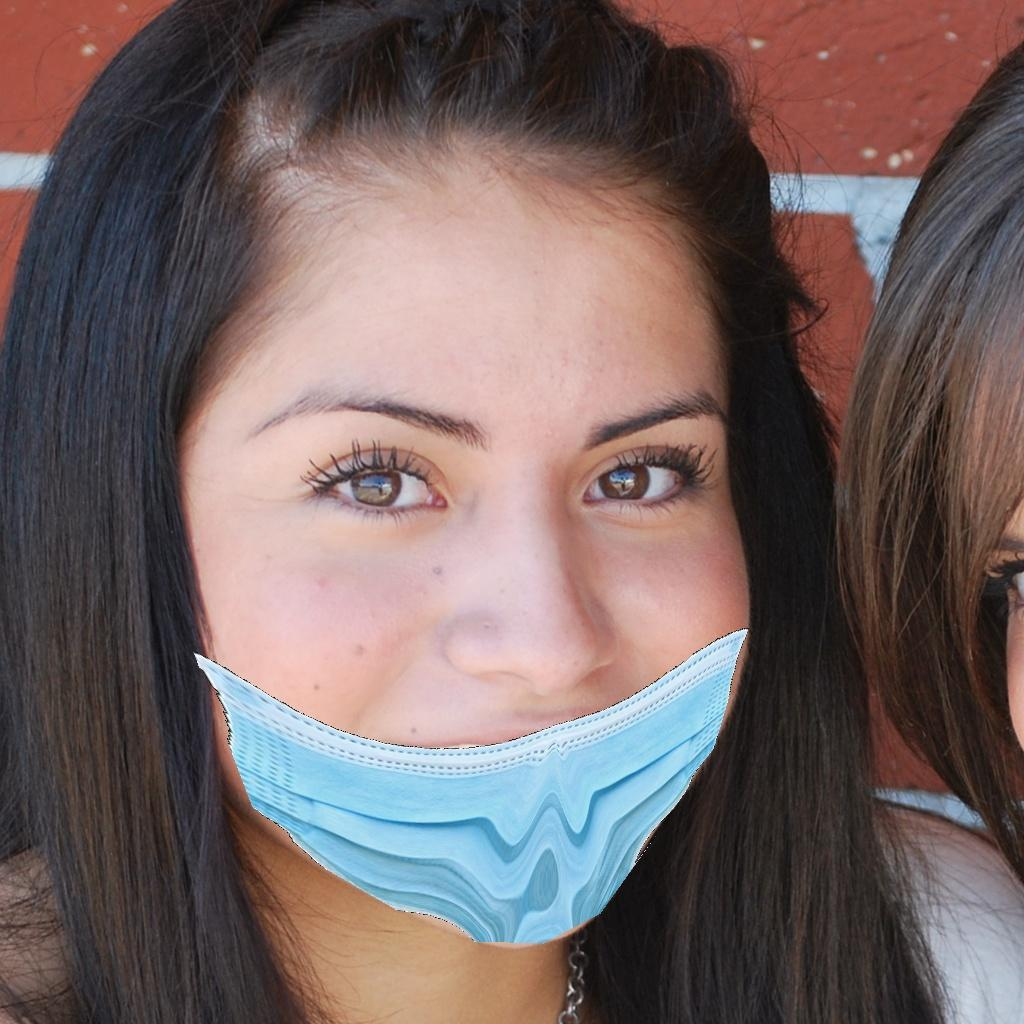Máscara Incorreta: (149, 243, 762, 941)
